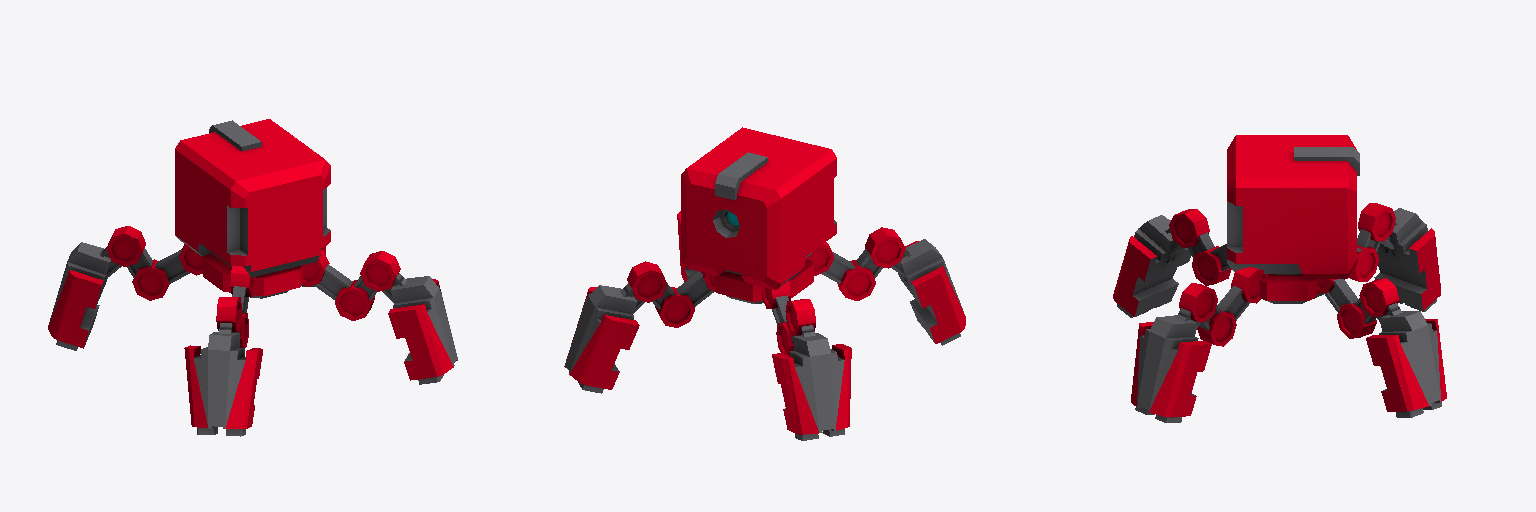
The picture shows the model from 3 angles: view 1: azimuth 30°, elevation 25°; view 2: azimuth 150°, elevation 25°; view 3: azimuth 270°, elevation 25°; orthographic projection.
Parts seen in each view (by area): view 1: Box006, Object021, Object017, Object025, Object020, Object028, Object027, Object018, Object019, Object026, Object024, Object022; view 2: Box006, Object025, Object013, Object021, Object016, Object024, Object023, Object015, Object022, Object028, Object014, Object026; view 3: Box006, Object017, Object013, Object021, Object025, Object018, Object016, Object020, Object023, Object024, Object028, Object015 (+3 smaller).
Part boxes in pixels (left/top/right/bottom): Box006: left=175, top=119, right=330, bottom=298; Object021: left=184, top=332, right=262, bottom=436; Object017: left=388, top=276, right=457, bottom=384; Object025: left=48, top=242, right=110, bottom=350; Object020: left=360, top=251, right=406, bottom=302; Object028: left=100, top=226, right=145, bottom=279; Object027: left=127, top=248, right=169, bottom=300; Object018: left=302, top=250, right=352, bottom=300; Object019: left=335, top=276, right=376, bottom=320; Object026: left=155, top=244, right=212, bottom=283; Object024: left=216, top=297, right=241, bottom=333; Object022: left=230, top=266, right=253, bottom=313; Box006: left=681, top=127, right=836, bottom=303; Object025: left=772, top=333, right=851, bottom=440; Object013: left=564, top=285, right=639, bottom=393; Object021: left=898, top=239, right=965, bottom=345; Object016: left=620, top=261, right=667, bottom=313; Object024: left=865, top=227, right=911, bottom=277; Object023: left=837, top=249, right=882, bottom=300; Object015: left=652, top=283, right=694, bottom=327; Object022: left=806, top=242, right=855, bottom=283; Object028: left=785, top=299, right=815, bottom=336; Object014: left=676, top=271, right=726, bottom=306; Object026: left=762, top=281, right=790, bottom=325; Box006: left=1227, top=135, right=1359, bottom=303; Object017: left=1131, top=315, right=1211, bottom=422; Object013: left=1366, top=311, right=1446, bottom=417; Object021: left=1113, top=215, right=1191, bottom=317; Object025: left=1374, top=208, right=1440, bottom=311; Object018: left=1217, top=267, right=1267, bottom=320; Object016: left=1359, top=278, right=1402, bottom=323; Object020: left=1176, top=283, right=1217, bottom=329; Object023: left=1188, top=232, right=1231, bottom=285; Object024: left=1165, top=209, right=1209, bottom=255; Object028: left=1358, top=203, right=1397, bottom=249; Object015: left=1337, top=298, right=1376, bottom=338.
Bounding box in the file's own units: 150 × 107 × 153.
1 materials, 1 textured.